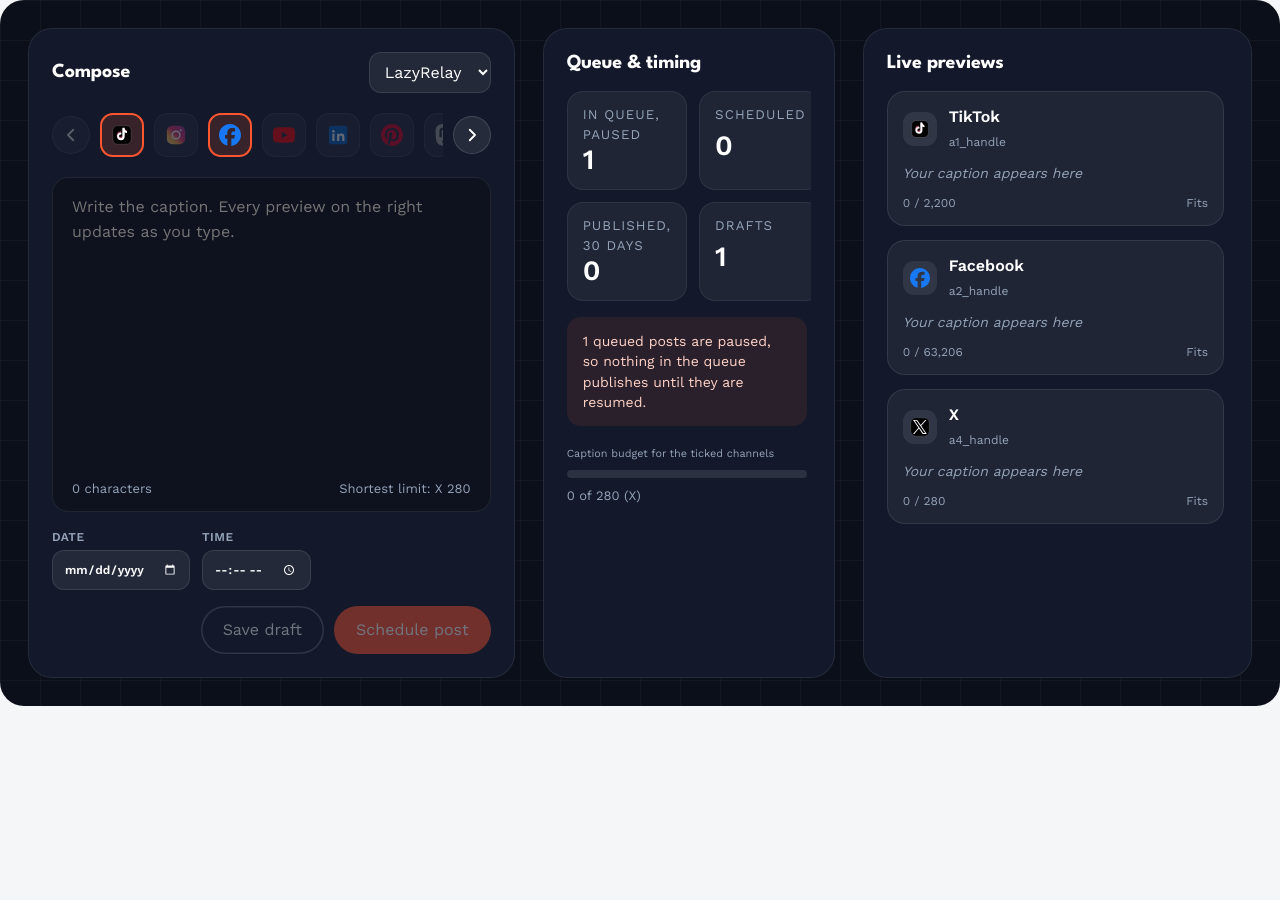
Scenario: saving and scheduling › will not schedule without a date and time, and says so
This screenshot has width=1280, height=900.
Replace the text in the text box labelled "caption" with "Go live": (271, 324) [52,177,491,470]
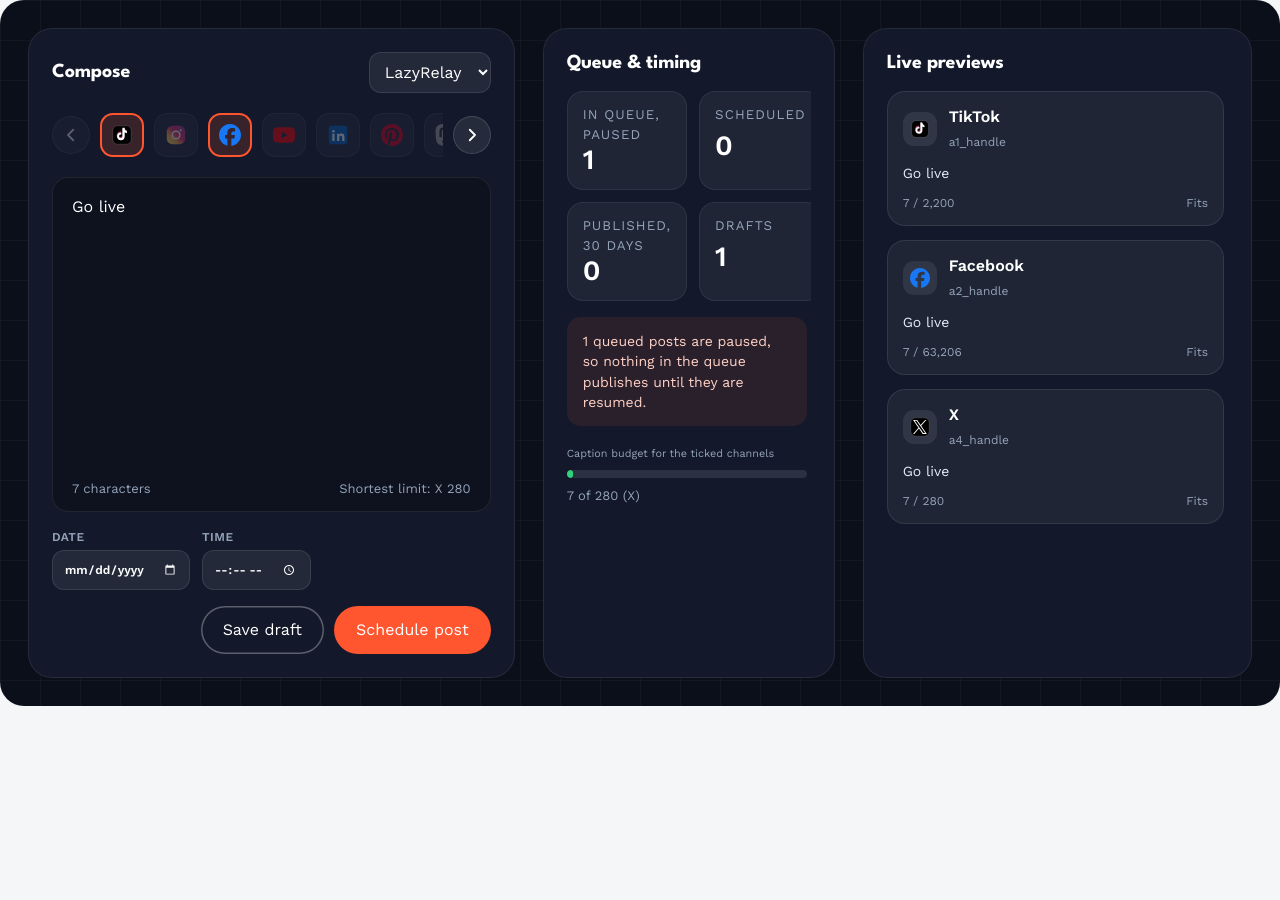
Click the button "Schedule post": (412, 630) [334,606,491,654]
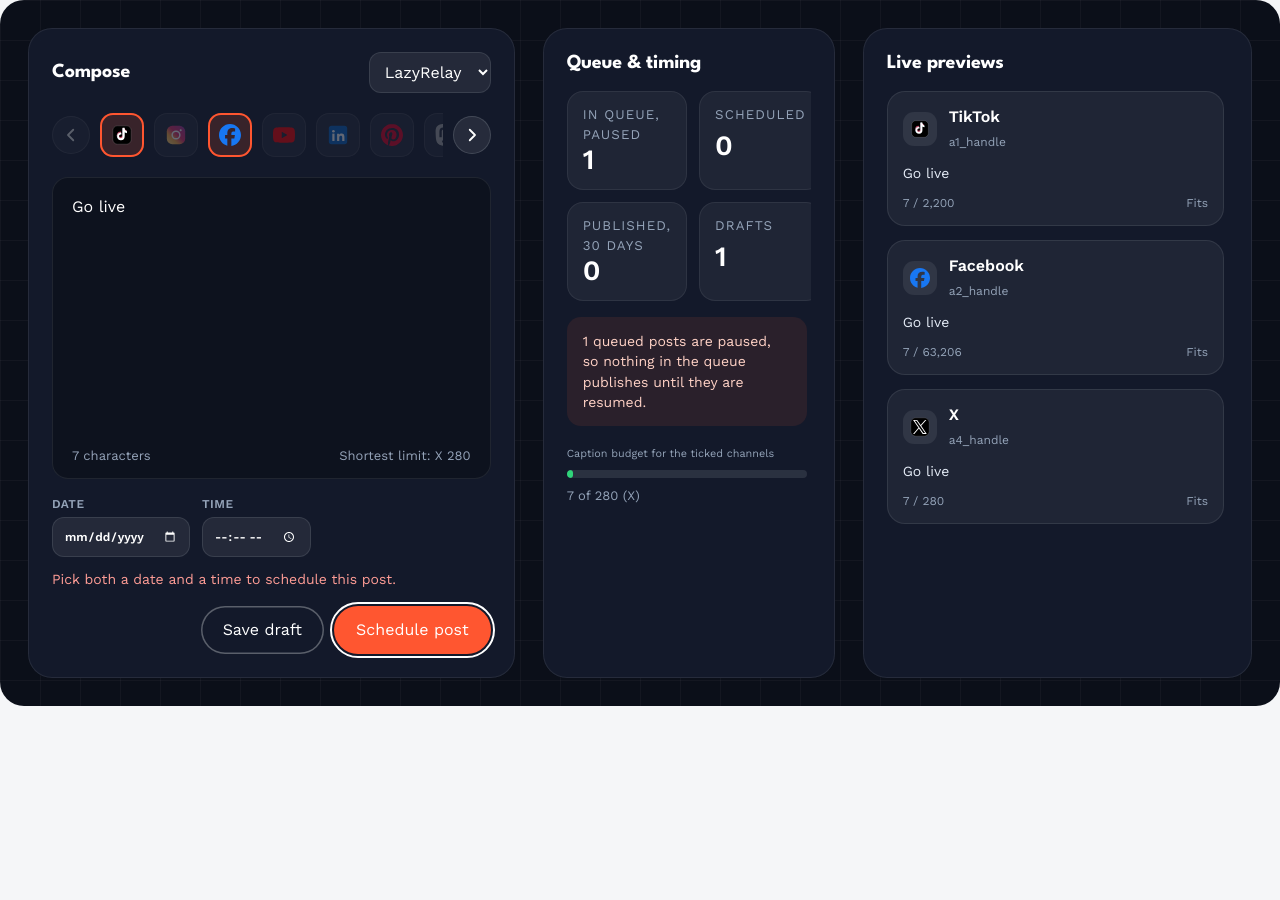
Check: the message shows "date and a time", box [52,571,396,587]
